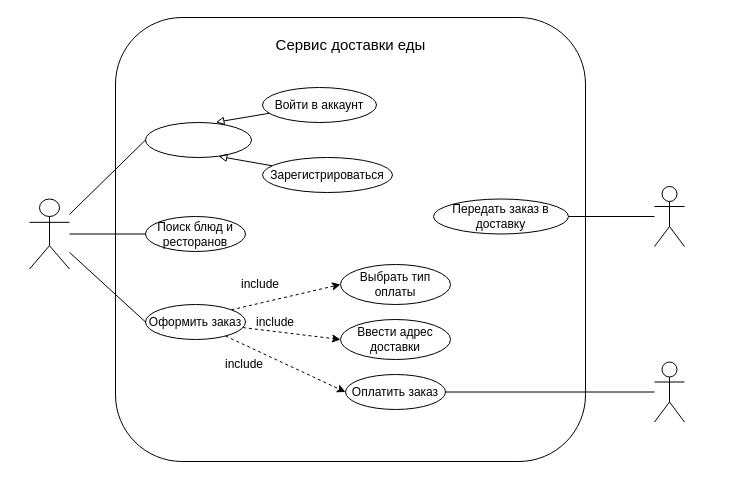
Some shapes in this 736 by 479 pixel diagram are drawn without their labels. The box of each missing label's shape, as (x1, y1, x2, y2) in pixels:
Авторизоваться: (144, 122, 252, 158)
Платёжный шлюз: (654, 361, 684, 422)
Покупатель: (28, 198, 70, 269)
Сервис доставки: (654, 186, 684, 246)
